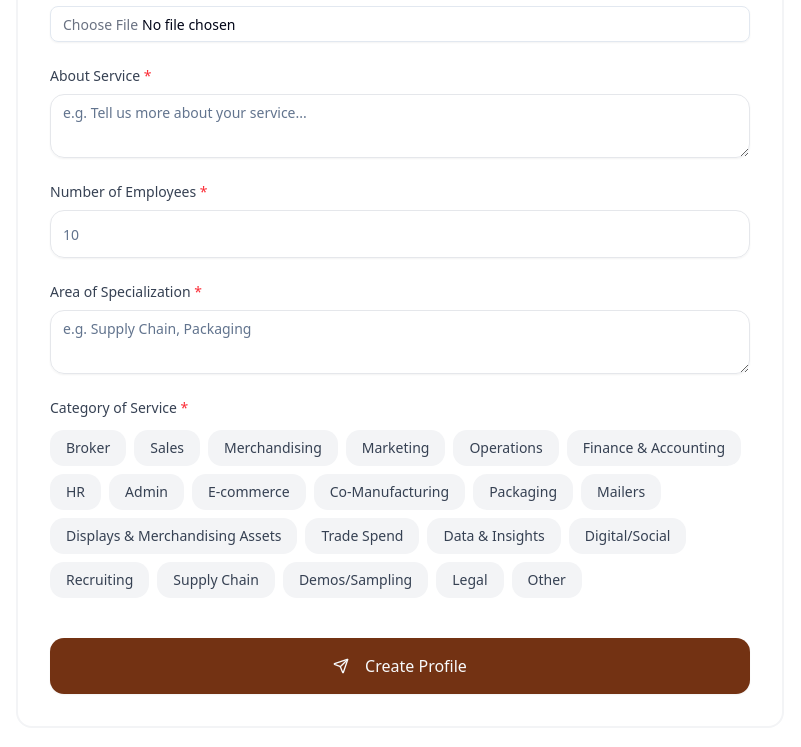
Test case: ServiceOnboarding Component › Category of Service Selection › should show markets covered when applicable category is selected
(page scrolled)
Click the button "Sales" at (167, 448), box [134,430,200,466]
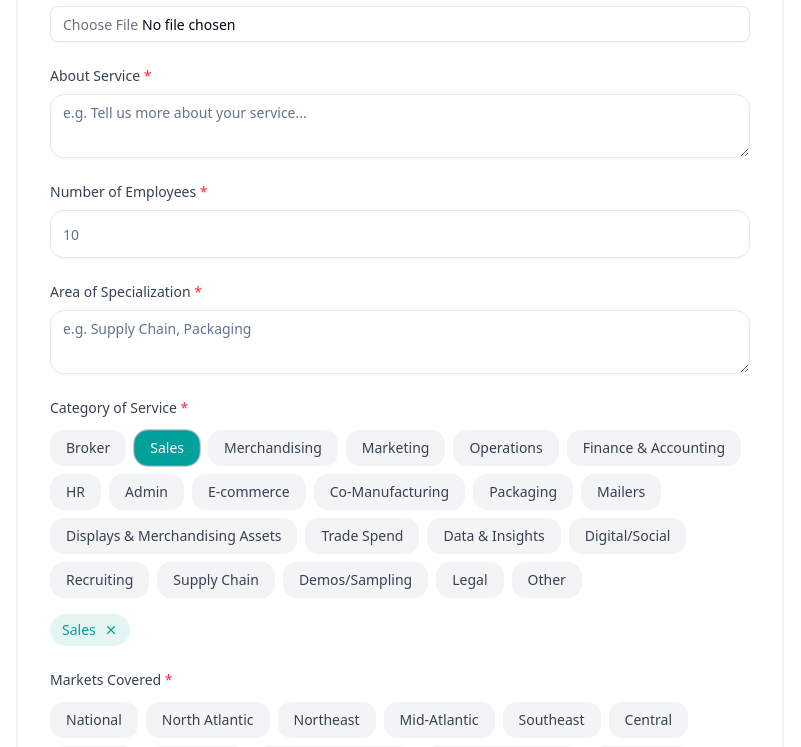
Expected: the text "Markets Covered" is shown, [50,670,161,689]
